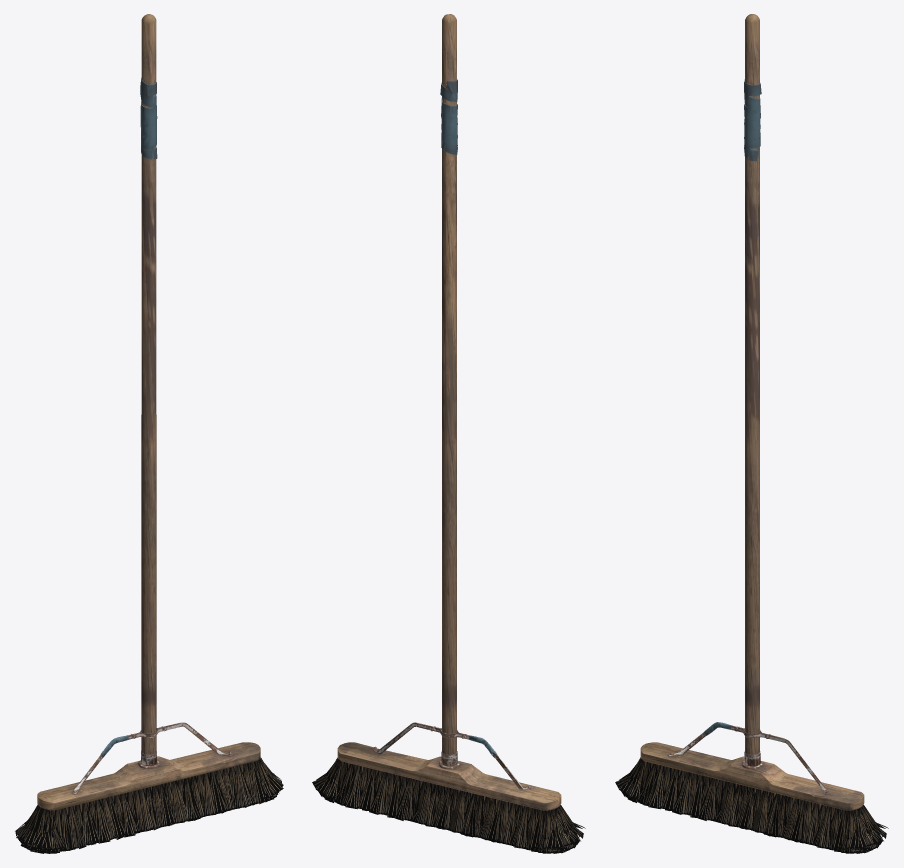
File: wooden_broom.glb
3 views of the same model, side by side, from view 1: azimuth 30°, elevation 25°; view 2: azimuth 150°, elevation 25°; view 3: azimuth 330°, elevation 25° (orthographic).
Visible parts, largest first — view 1: wooden_broom_handle, wooden_broom_bristles; view 2: wooden_broom_handle, wooden_broom_bristles; view 3: wooden_broom_handle, wooden_broom_bristles.
Part boxes in pixels (x1,y1,x2,y2): wooden_broom_handle: [37, 14, 260, 810]; wooden_broom_bristles: [15, 757, 283, 853]; wooden_broom_handle: [337, 14, 561, 810]; wooden_broom_bristles: [312, 757, 585, 853]; wooden_broom_handle: [640, 14, 864, 810]; wooden_broom_bristles: [615, 757, 888, 853].
Size of the model in its own units: 0.4902 by 1.45 by 0.1125.
Materials: 2 (2 with a texture image).
